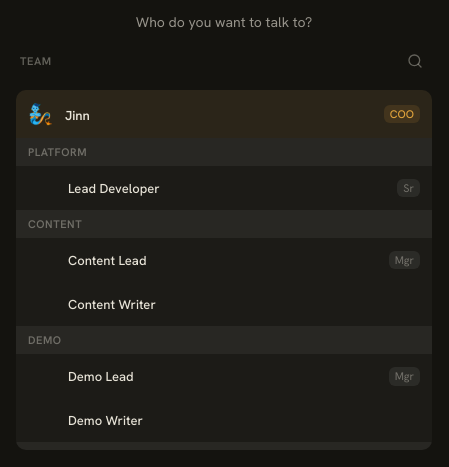
it: ChatEmployeePicker › reveals the search field when the magnifier button is clicked
The image size is (449, 467).
Click the button named "search employees". click: click(415, 61)
box: [398, 44, 432, 78]
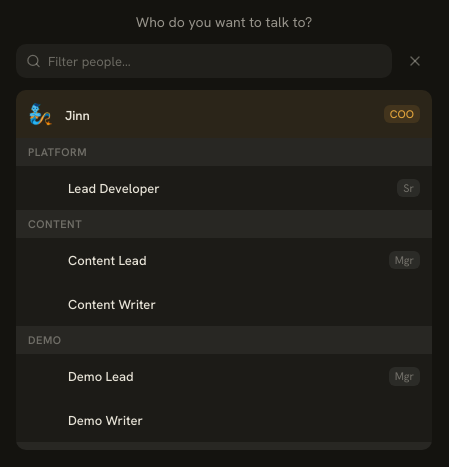
Expected: the field with placeholder "Filter people…" is shown, [16, 44, 392, 78]
